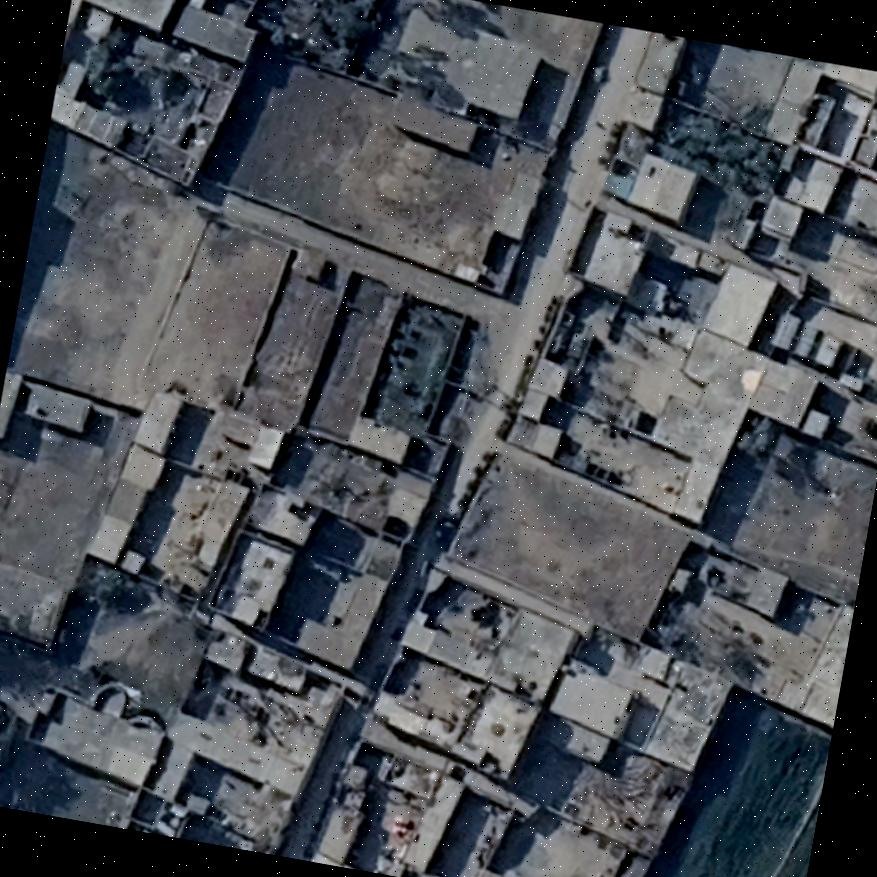Solarpanel: (770, 309, 804, 353), (792, 323, 822, 362)
